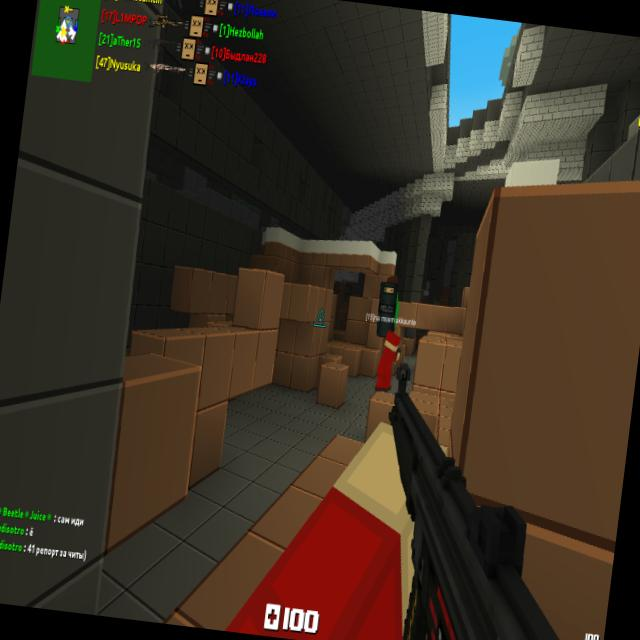enemy: (376, 273, 403, 332)
